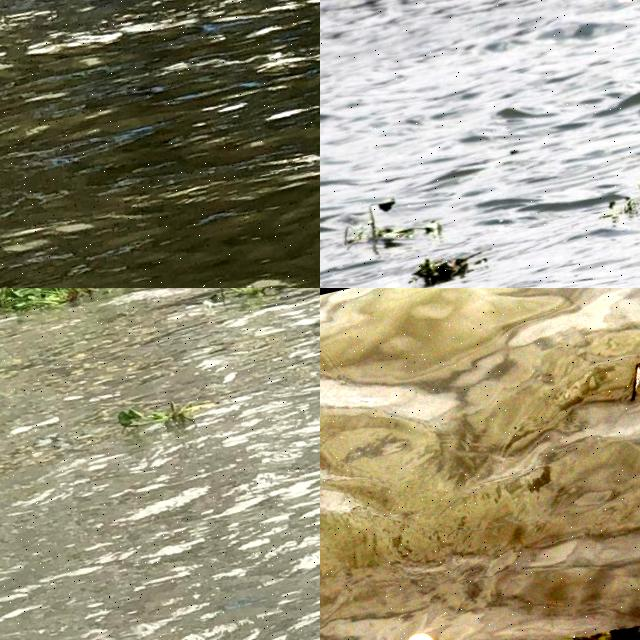water-hyacinth: (331, 184, 442, 262), (111, 391, 206, 445), (1, 289, 101, 311), (213, 289, 285, 317)
